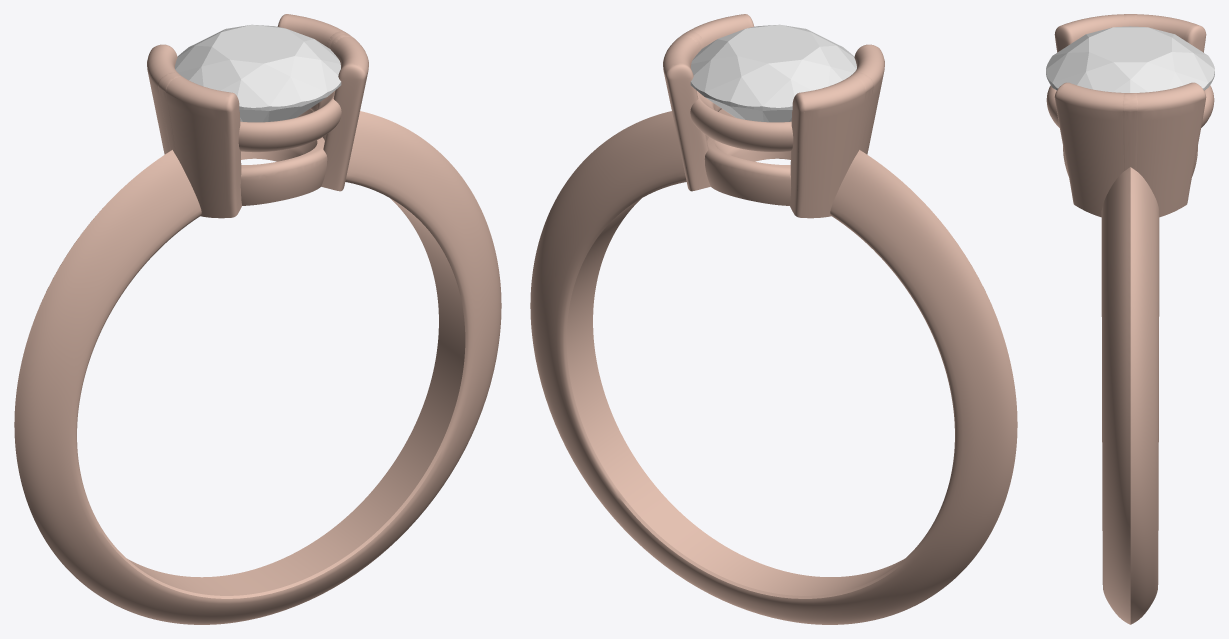
File: diamond-round-rosegold-halfmoonbezel-knifeedge-nosidestones.glb
The picture shows the model from 3 angles, left to right: view 1: azimuth 30°, elevation 25°; view 2: azimuth 150°, elevation 25°; view 3: azimuth 270°, elevation 25°; orthographic projection. The views are drawn at different scales.
Parts seen in each view (by area): view 1: metal, stone; view 2: metal, stone; view 3: metal, stone.
Part boxes in pixels (bbox=[...]): metal: bbox=[14, 14, 501, 624]; stone: bbox=[175, 24, 341, 122]; metal: bbox=[530, 14, 1017, 624]; stone: bbox=[690, 24, 856, 122]; metal: bbox=[1046, 14, 1214, 624]; stone: bbox=[1046, 26, 1214, 92].
Bounding box in the file's own units: 20.7 × 23.31 × 6.44.
